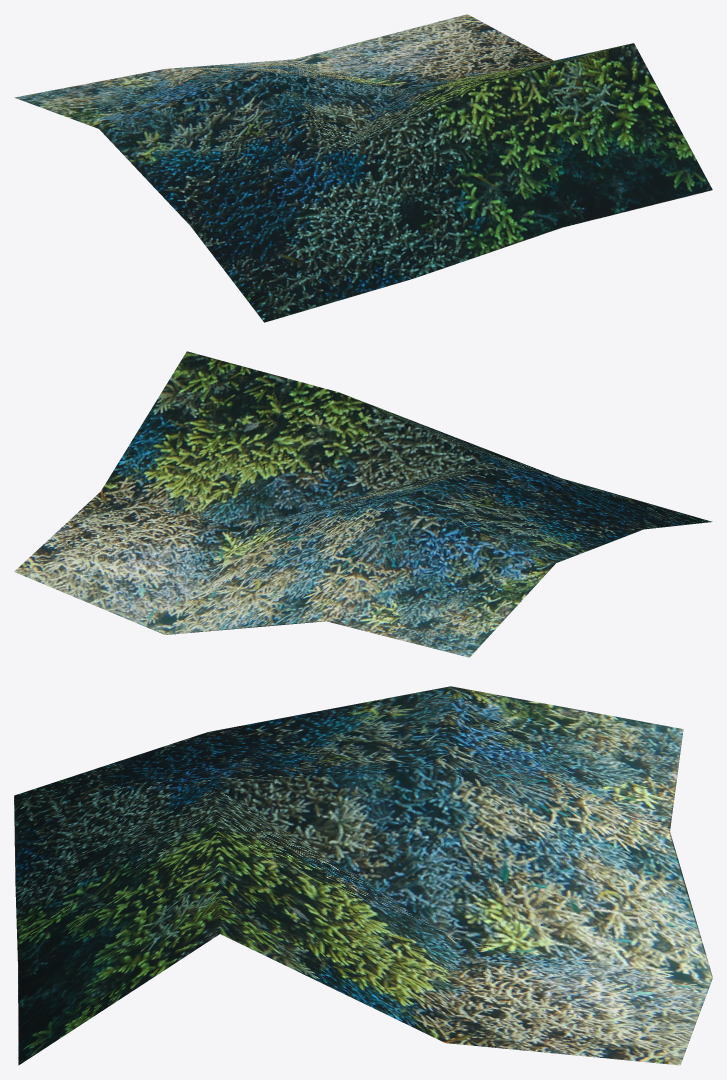
Rendered from Coral_A.fbx.
The picture shows the model from 3 angles, top to bottom: view 1: azimuth 30°, elevation 25°; view 2: azimuth 150°, elevation 25°; view 3: azimuth 270°, elevation 25°; orthographic projection. The views are drawn at different scales.
Visible parts, largest first — view 1: Coral_A; view 2: Coral_A; view 3: Coral_A.
Part boxes in pixels (x1,y1,x2,y2): Coral_A: [14, 14, 712, 322]; Coral_A: [14, 351, 712, 657]; Coral_A: [14, 686, 712, 1065].
Size of the model in its own units: 3.77 by 0.9164 by 3.68.
Materials: 1 (1 with a texture image).
